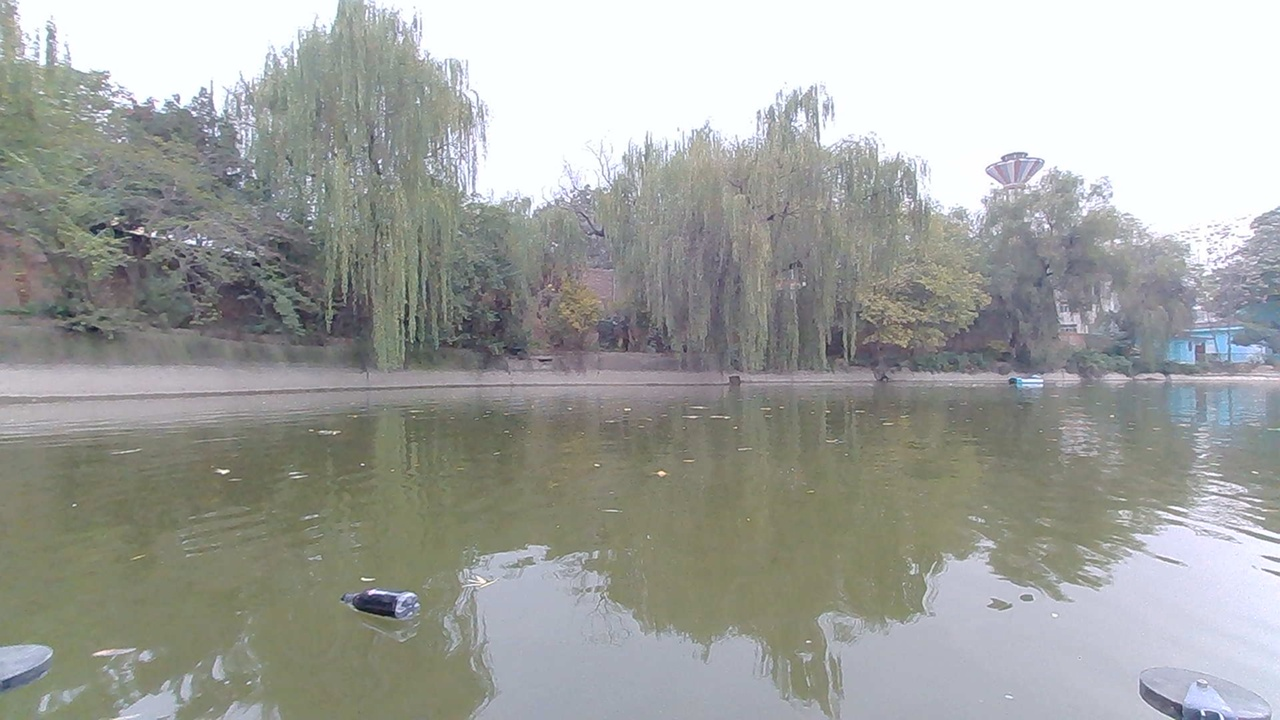bottle: (360, 590, 414, 624)
